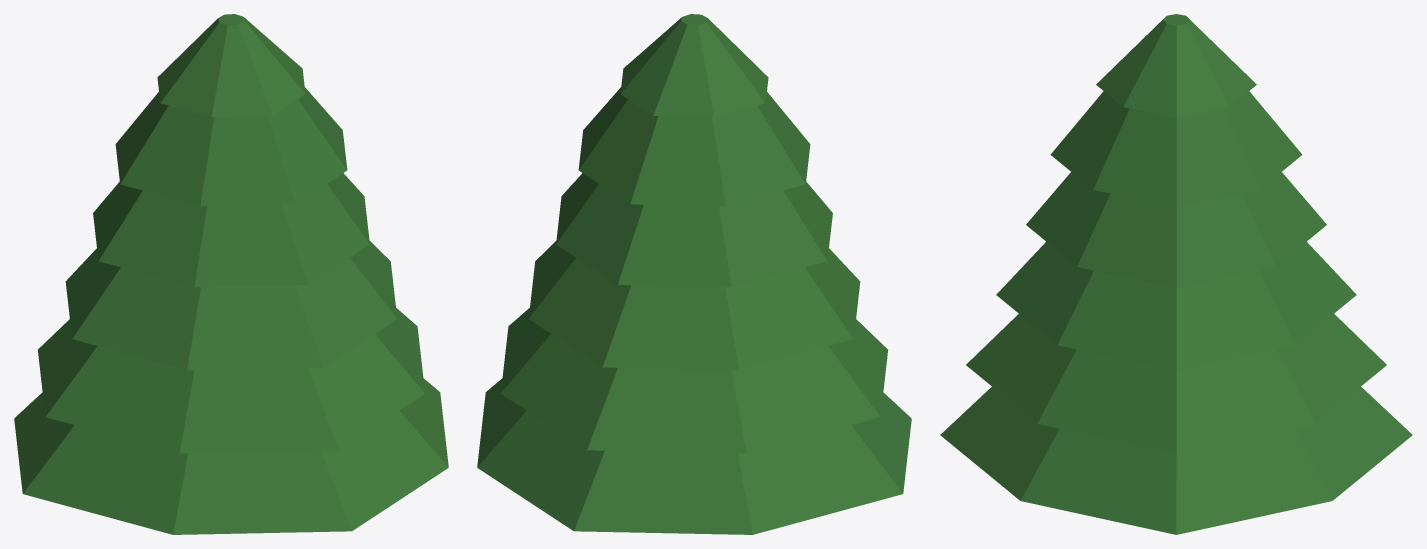
The model's file is Tree1, Tall_Fat2.fbx.
3 renders of one model, left to right at view 1: azimuth 30°, elevation 25°; view 2: azimuth 150°, elevation 25°; view 3: azimuth 270°, elevation 25°, orthographic.
Parts seen in each view (by area): view 1: Pine Tree; view 2: Pine Tree; view 3: Pine Tree.
Boxes of the visible parts, x1=… form: Pine Tree: x1=14, y1=14, x2=448, y2=534; Pine Tree: x1=477, y1=14, x2=911, y2=534; Pine Tree: x1=940, y1=14, x2=1412, y2=534.
Size of the model in its own units: 322 by 351 by 322.
